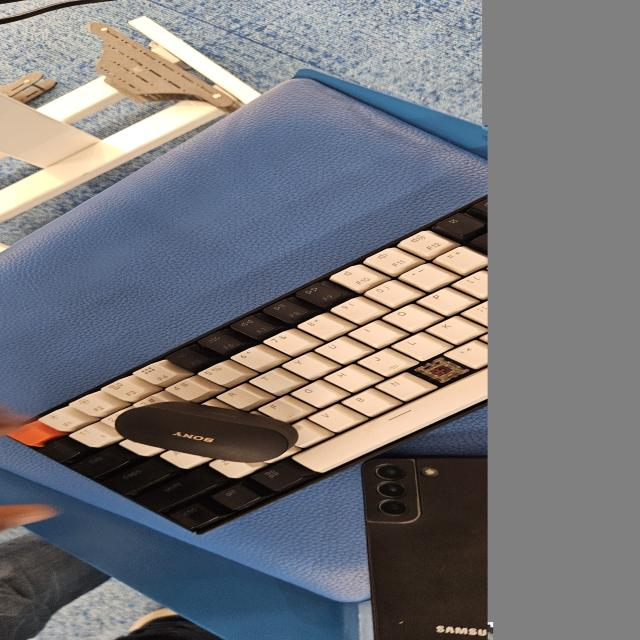C: (421, 364, 462, 381)
